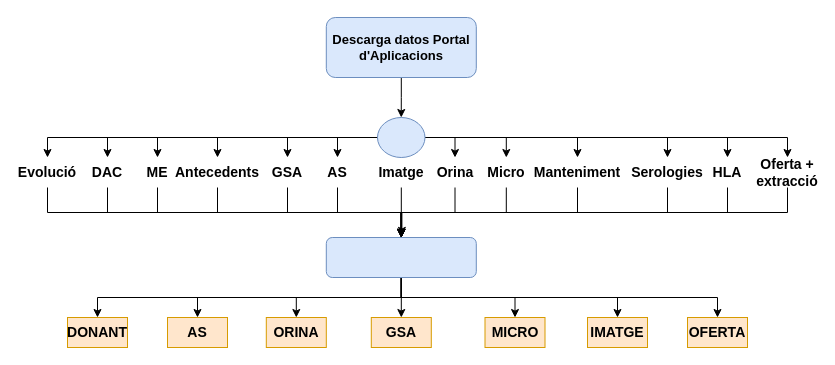
The diagram is 835 pixels wide and 365 high, and some of its shapes have lost their labels. The centre of each missing label's shape, as x and y in pixels:
API: pixel 400 137
TRANSFORMACIONS: pixel 400 257
